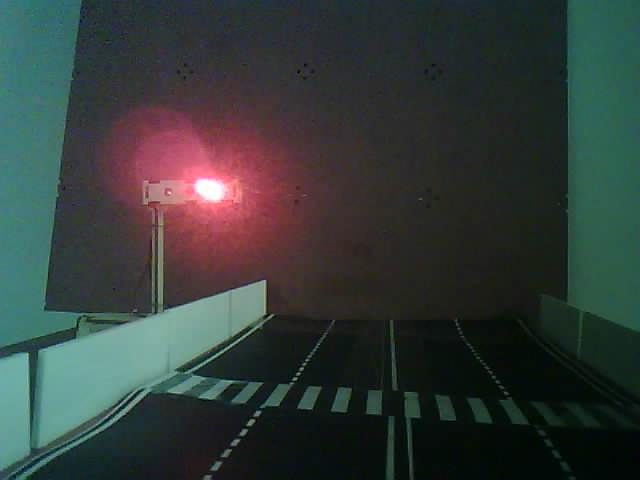crosswalk: (100, 350, 640, 480)
red: (59, 103, 321, 335)
